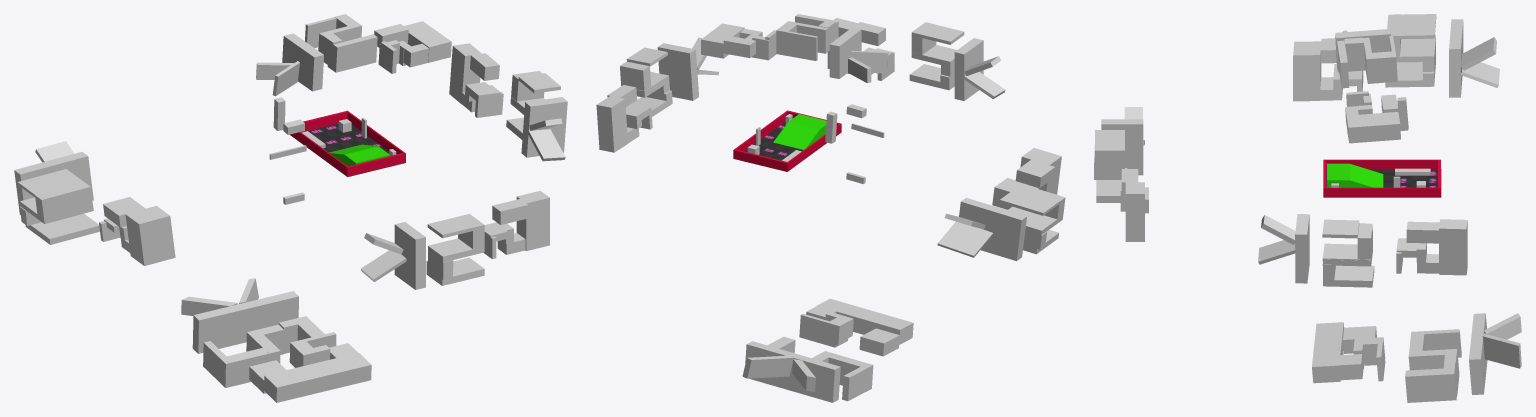
Rendered from gsk.glb.
The picture shows the model from 3 angles, left to right: view 1: azimuth 30°, elevation 25°; view 2: azimuth 150°, elevation 25°; view 3: azimuth 270°, elevation 25°; orthographic projection. The views are drawn at different scales.
Visible parts, largest first — view 1: Cube.012 (×2), Cube (×2), Cube.089 (×2), Cube.077 (×2), Cube.079 (×2), Walls, Cube.009 (×2), Cube.042, Cube.078 (×2), Cube.080, Cube.008 (×2), Cube.001 (×2) (+18 smaller); view 2: Cube.012 (×2), Cube.077 (×2), Cube.075 (×2), Cube.042, Cube.078 (×2), Cube, Cube.089 (×2), Cube.014 (×2), Walls, Cube.030, Cube.088 (×2), Cube.001 (×2) (+14 smaller); view 3: Cube.089 (×2), Cube (×2), Walls, Cube.012 (×2), Cube.010 (×2), Cube.077 (×2), Cube.030, Cube.079 (×2), Cube.011 (×2), Ramp, Cube.080 (×2), Cube.042 (+21 smaller).
Boxes of the visible parts, x1,y1,x2,y2 form: Cube.012 (×2): [192, 222, 425, 353]; Cube (×2): [264, 190, 549, 402]; Cube.089 (×2): [125, 21, 451, 265]; Cube.077 (×2): [14, 33, 323, 214]; Cube.079 (×2): [25, 34, 377, 244]; Walls: [290, 110, 405, 176]; Cube.009 (×2): [219, 214, 484, 387]; Cube.042: [521, 97, 567, 157]; Cube.078 (×2): [17, 17, 336, 197]; Cube.080: [35, 182, 92, 218]; Cube.008 (×2): [246, 238, 484, 363]; Cube.001 (×2): [249, 199, 528, 393]; Cube.012 (×2): [745, 38, 983, 402]; Cube.077 (×2): [829, 27, 1026, 261]; Cube.075 (×2): [851, 50, 993, 257]; Cube.042: [657, 43, 698, 100]; Cube.078 (×2): [787, 31, 1058, 215]; Cube: [817, 298, 913, 344]; Cube.089 (×2): [701, 23, 1061, 194]; Cube.014 (×2): [742, 72, 1005, 378]; Walls: [733, 110, 841, 171]; Cube.030: [596, 96, 628, 152]; Cube.088 (×2): [723, 36, 1055, 188]; Cube.001 (×2): [853, 22, 899, 356]; Cube.089 (×2): [1293, 41, 1400, 143]; Cube (×2): [1125, 182, 1344, 383]; Walls: [1323, 159, 1440, 197]; Cube.012 (×2): [1101, 119, 1487, 394]; Cube.010 (×2): [1096, 180, 1456, 402]; Cube.077 (×2): [1335, 19, 1463, 97]; Cube.030: [1439, 219, 1467, 275]; Cube.079 (×2): [1337, 40, 1435, 88]; Cube.011 (×2): [1095, 130, 1461, 357]; Ramp: [1327, 163, 1383, 187]; Cube.080 (×2): [1372, 14, 1401, 83]; Cube.042: [1295, 214, 1309, 283].
Size of the model in its own units: 335 by 232 by 252.
3 materials, 1 textured.
